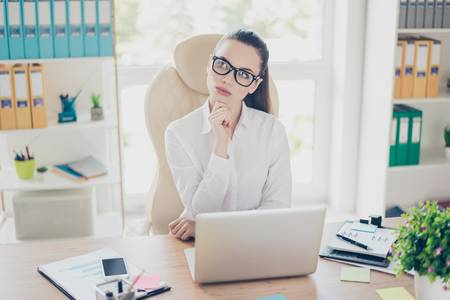F_shirt: (166, 97, 293, 231)
